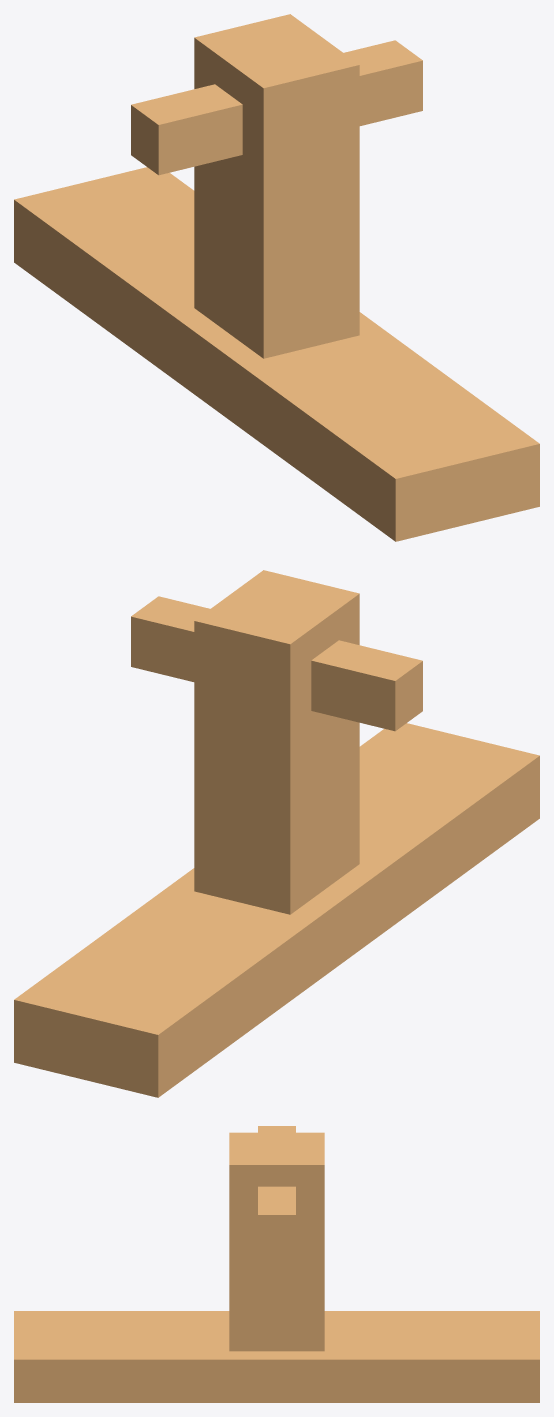
File: sendero.glb
3 views of the same model, one above another, from view 1: azimuth 30°, elevation 25°; view 2: azimuth 150°, elevation 25°; view 3: azimuth 270°, elevation 25° (orthographic). The views are drawn at different scales.
Bounding box in the file's own units: 0.44 × 0.53 × 1.1.
